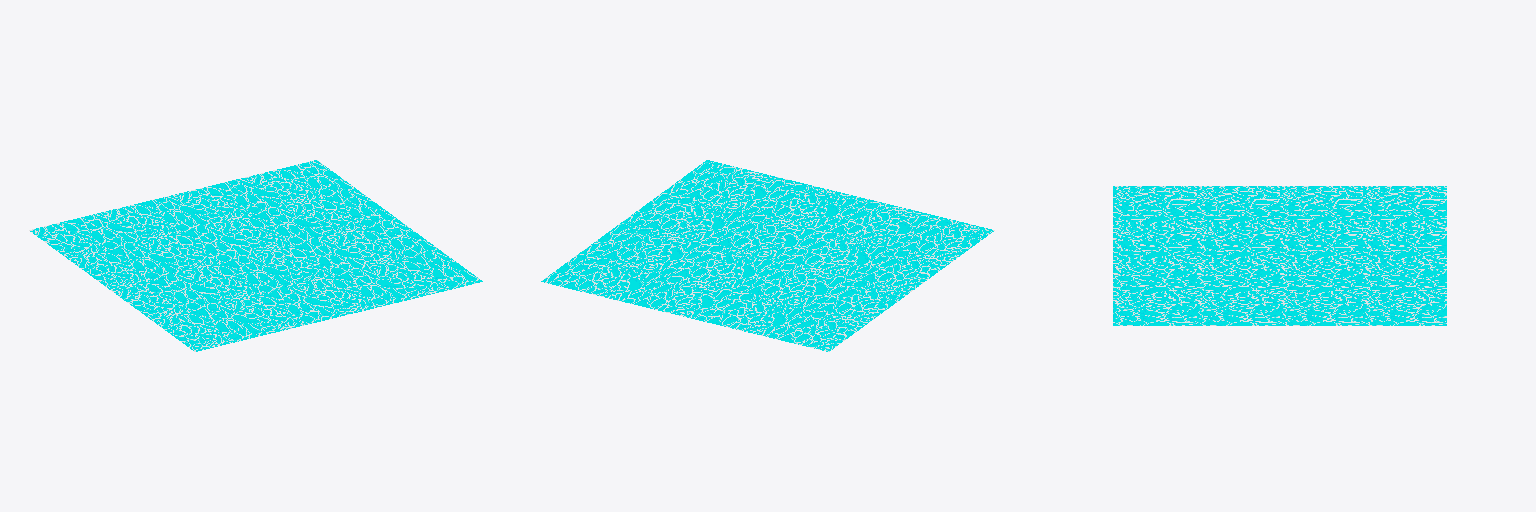
The picture shows the model from 3 angles: view 1: azimuth 30°, elevation 25°; view 2: azimuth 150°, elevation 25°; view 3: azimuth 270°, elevation 25°; orthographic projection.
Visible parts, largest first — view 1: Plane; view 2: Plane; view 3: Plane.
Part boxes in pixels (bbox=[...]): Plane: bbox=[29, 160, 482, 351]; Plane: bbox=[541, 160, 994, 351]; Plane: bbox=[1113, 186, 1446, 325].
Bounding box in the file's own units: 15.87 × 0 × 15.87.
Materials: 1 (1 with a texture image).